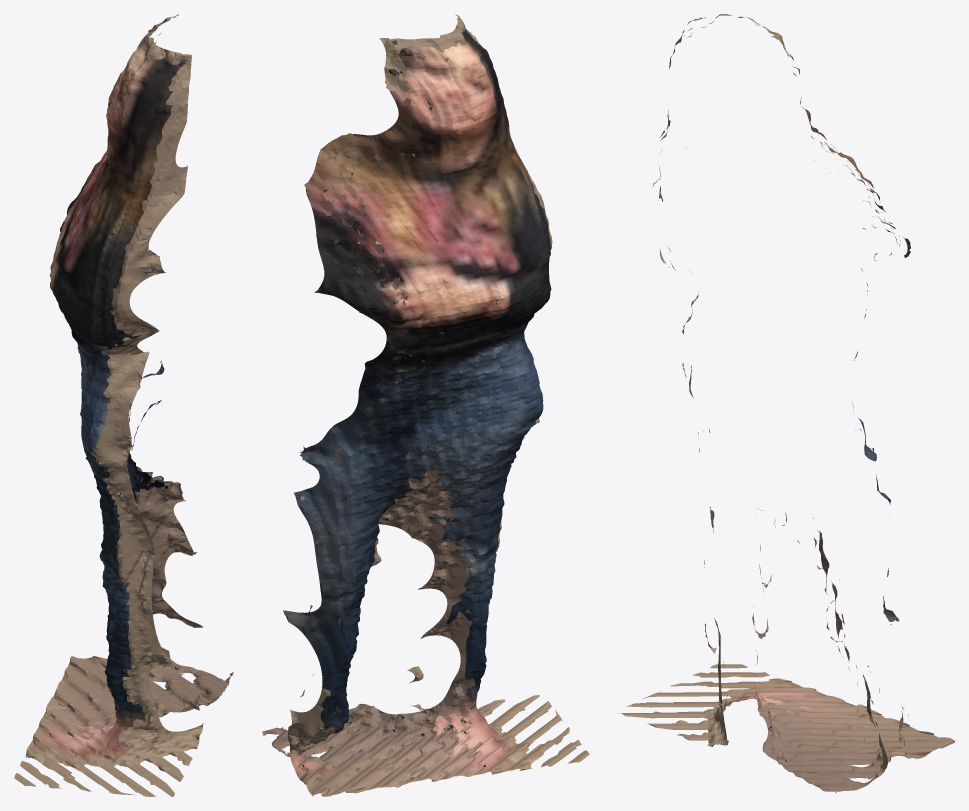
3 views of the same model, side by side, from view 1: azimuth 30°, elevation 25°; view 2: azimuth 150°, elevation 25°; view 3: azimuth 270°, elevation 25° (orthographic). The views are drawn at different scales.
Size of the model in its own units: 0.598 by 1.49 by 0.6345.
1 material, 1 textured.
